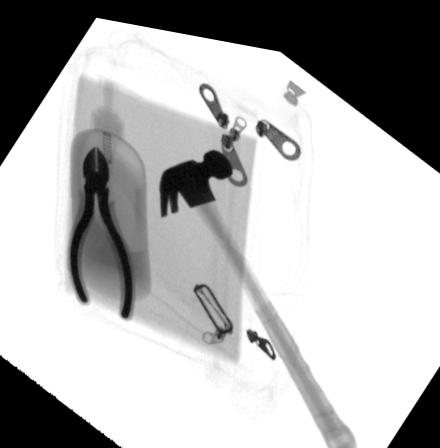Hammer: (157, 139, 355, 446)
Pliers: (65, 144, 136, 315)
